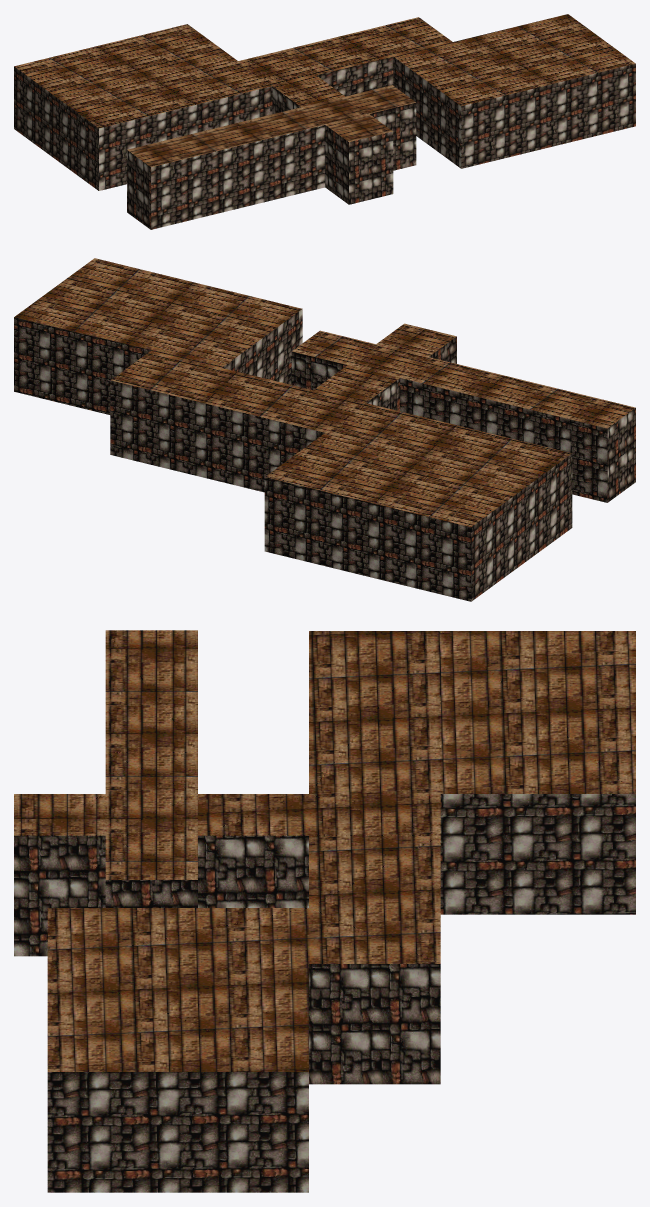
File: 00TestLevel.glb
3 views of the same model, one above another, from view 1: azimuth 30°, elevation 25°; view 2: azimuth 150°, elevation 25°; view 3: azimuth 270°, elevation 25° (orthographic). The views are drawn at different scales.
Visible parts, largest first — view 1: Plane; view 2: Plane; view 3: Plane.
Part boxes in pixels (bbox=[...]): Plane: bbox=[14, 14, 635, 229]; Plane: bbox=[14, 258, 635, 601]; Plane: bbox=[14, 630, 635, 1192].
Bounding box in the file's own units: 159 × 20.26 × 94.71.
3 materials, 3 textured.
